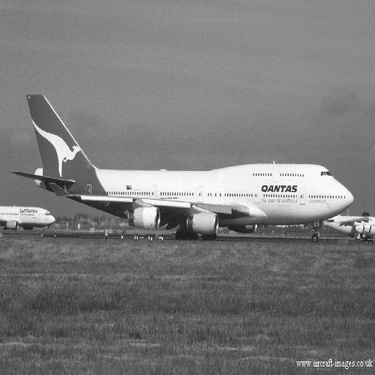airplane: (9, 82, 359, 237), (1, 196, 59, 231), (322, 206, 369, 248)
